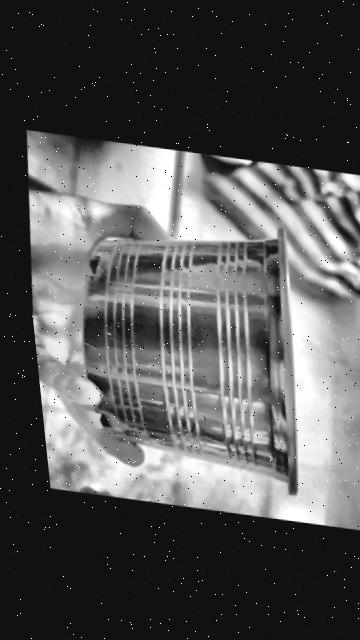pot: (82, 228, 297, 492)
